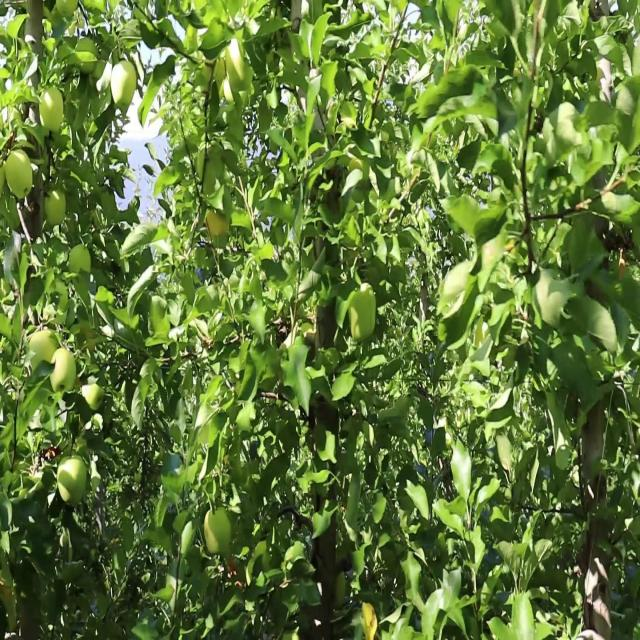apple: (112, 56, 139, 112), (60, 455, 88, 508), (536, 277, 562, 329), (8, 149, 34, 199), (40, 85, 64, 133), (52, 348, 75, 395), (52, 348, 72, 402), (228, 35, 247, 87), (44, 191, 68, 228), (208, 206, 231, 240), (32, 334, 57, 364), (204, 511, 221, 555), (84, 383, 105, 412), (364, 604, 379, 639), (220, 71, 235, 105), (52, 364, 65, 402)
